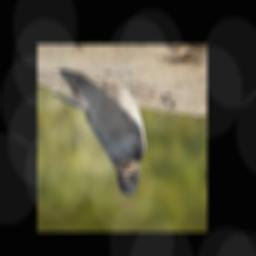Swallow: (47, 70, 147, 195)
